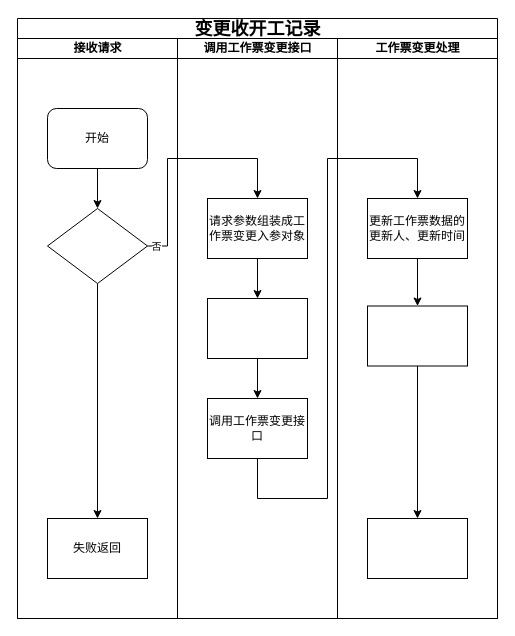
Some shapes in this 515 by 636 pixel diagram are drawn without their labels. Here are the shapes that lost their labels. From the top down, the centre of each, then its label:
(x=97, y=246): 请求入参data为空
(x=257, y=328): 获取用户信息给入参对象赋值修改人ID、修改人名称字段
(x=417, y=335): 保存收开工记录
(x=417, y=548): 成功返回
